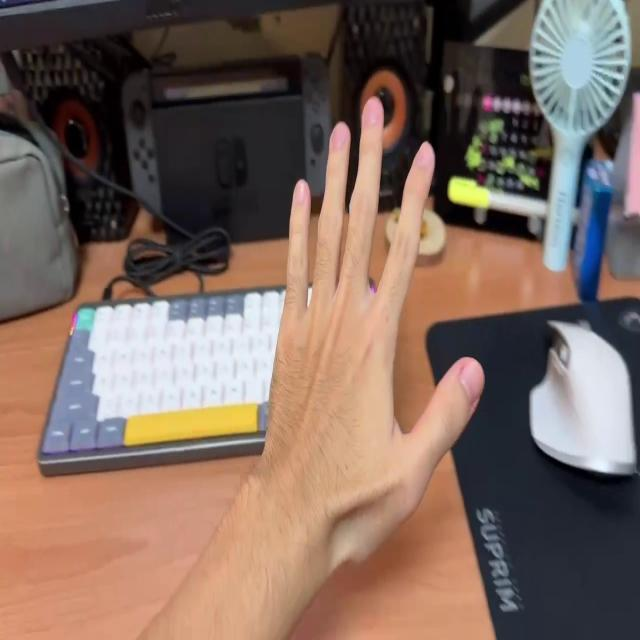keyboard-with-hands: (40, 278, 388, 460)
